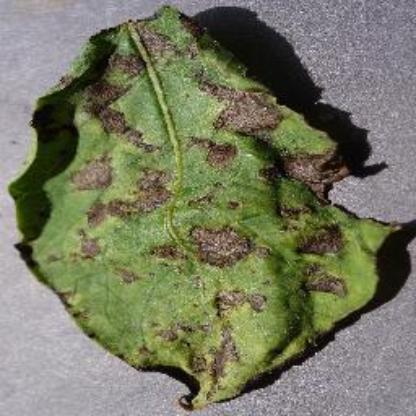Early-Blight: (6, 9, 400, 404)
